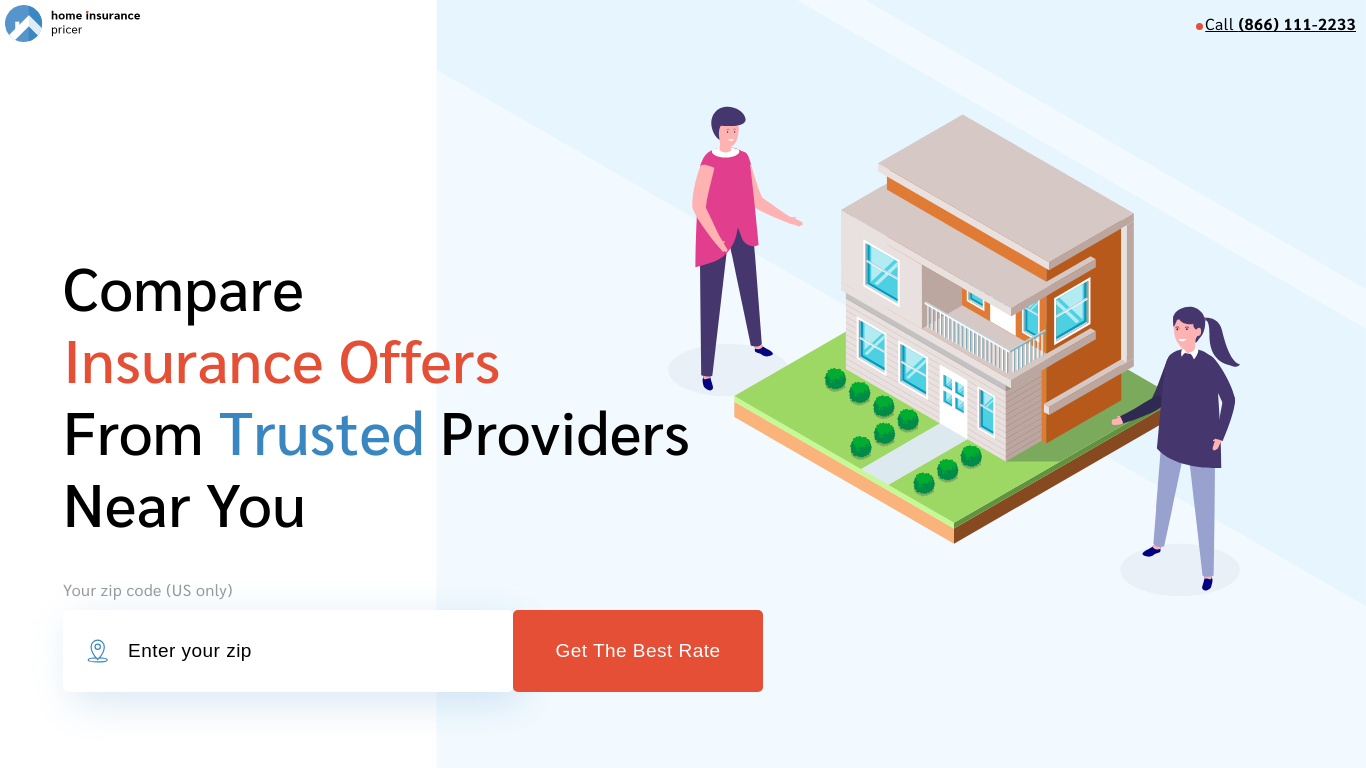
Test case: Homepage form › Shows an error when empty ZIP entered
The width and height of the screenshot is (1366, 768).
Click the button "Get The Best Rate" at (638, 651), box [513,610,763,692]
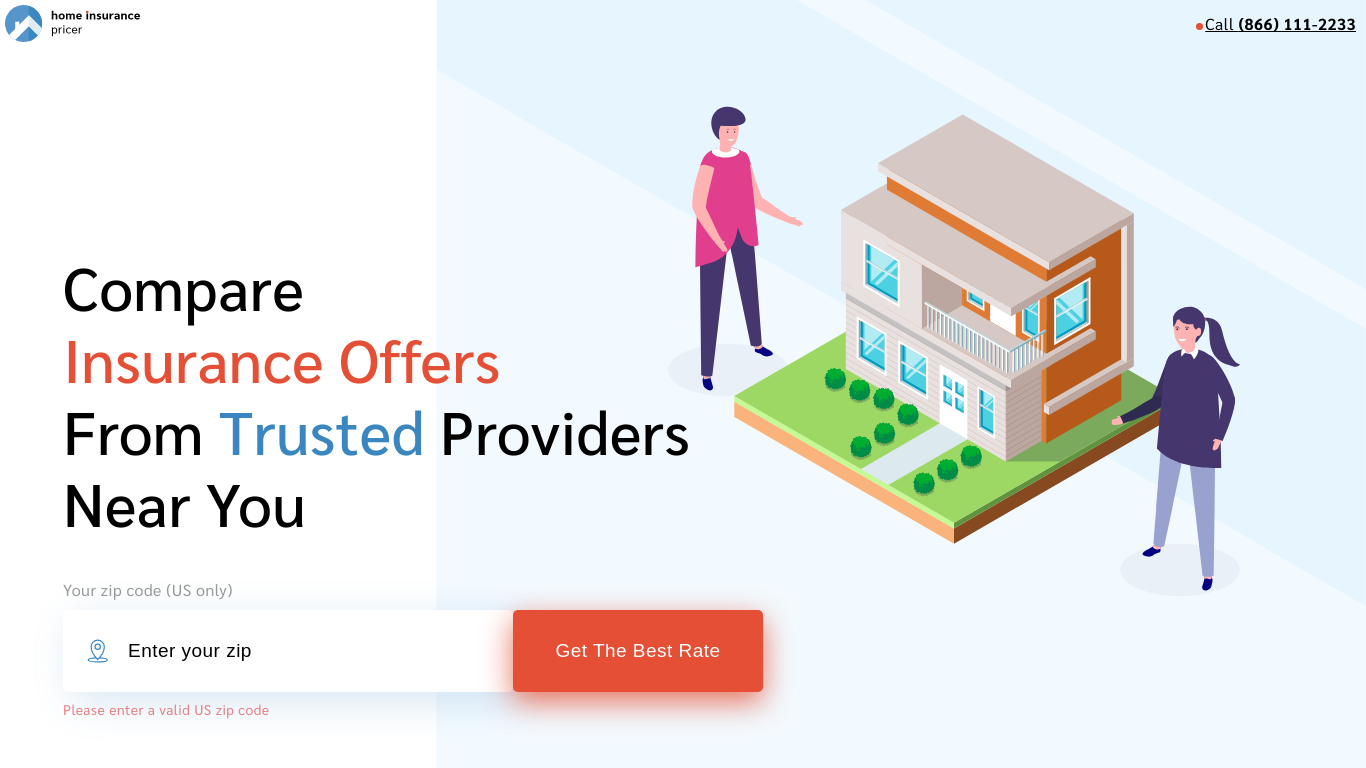
Now the text "Please enter a valid US zip code" is shown, box [63,700,270,718]
